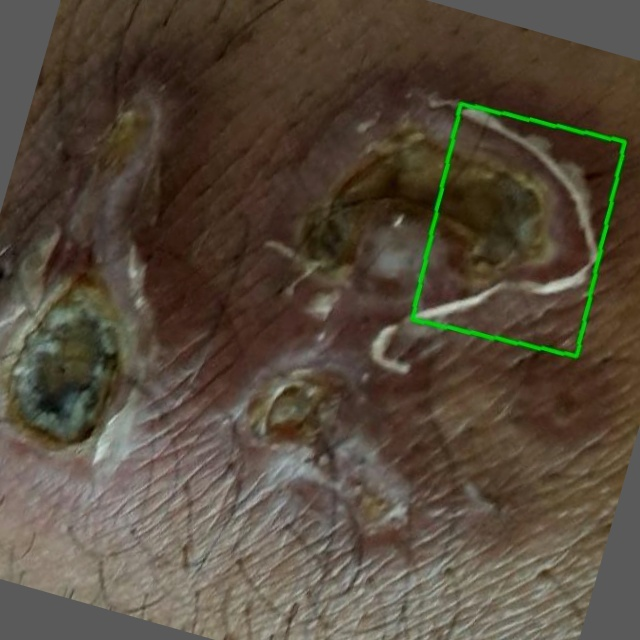Contact Dermatitis: (412, 103, 625, 356)
